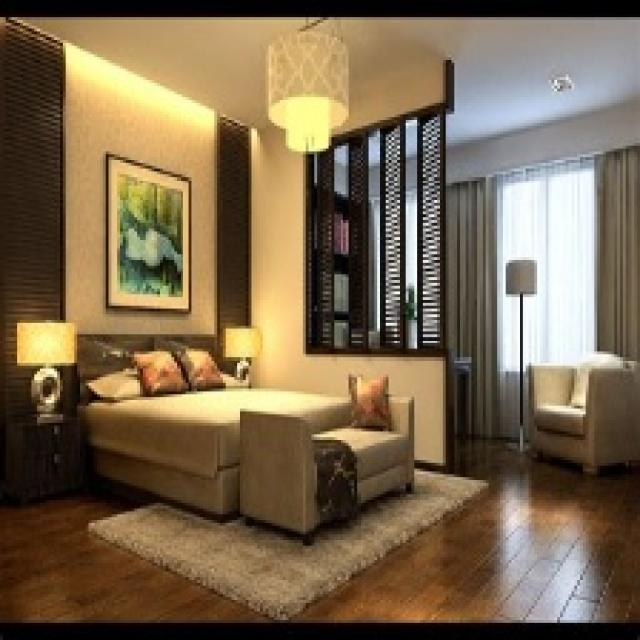Bed: (74, 331, 414, 543)
